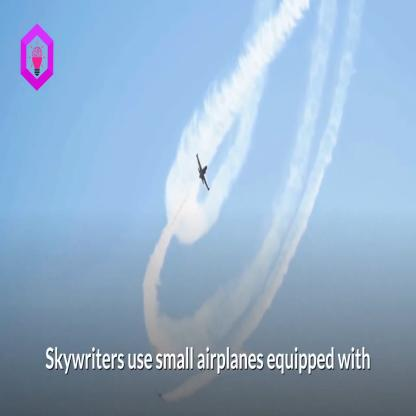plane: (190, 145, 215, 205)
